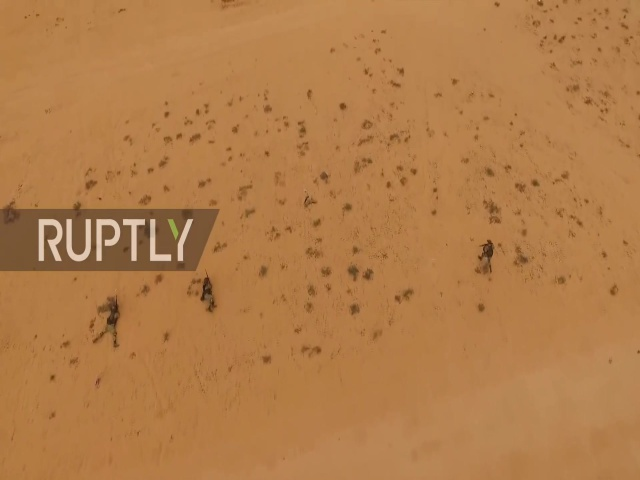person: (92, 300, 121, 348), (198, 275, 219, 313), (475, 238, 495, 274)
